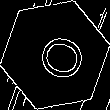O_W: (25, 26, 85, 84)
